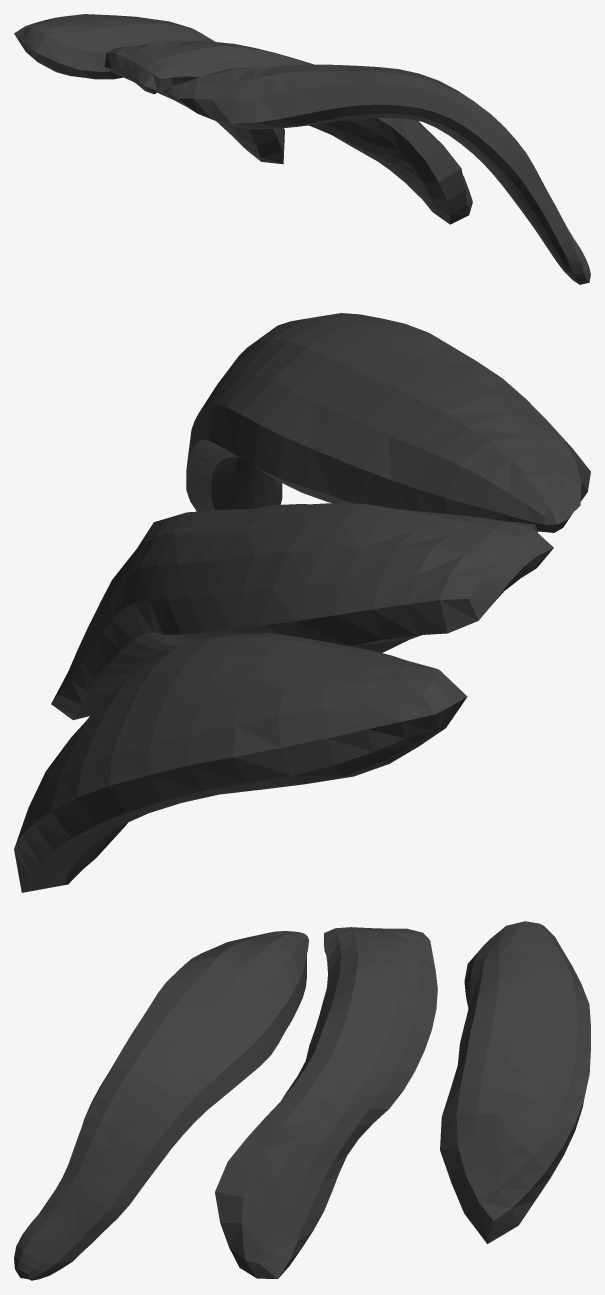
The model's file is Serratus_dorsalis_caudal.glb.
3 views of the same model, one above another, from view 1: azimuth 30°, elevation 25°; view 2: azimuth 150°, elevation 25°; view 3: azimuth 270°, elevation 25° (orthographic). The views are drawn at different scales.
Parts seen in each view (by area): view 1: Serratus_dorsalis_caudal; view 2: Serratus_dorsalis_caudal; view 3: Serratus_dorsalis_caudal.
Boxes of the visible parts, left/top/right/bottom form: Serratus_dorsalis_caudal: left=14, top=14, right=590, bottom=284; Serratus_dorsalis_caudal: left=14, top=313, right=590, bottom=892; Serratus_dorsalis_caudal: left=14, top=921, right=590, bottom=1280.
Bounding box in the file's own units: 0.2866 × 0.168 × 0.3832.
Materials: 1 (1 with a texture image).
